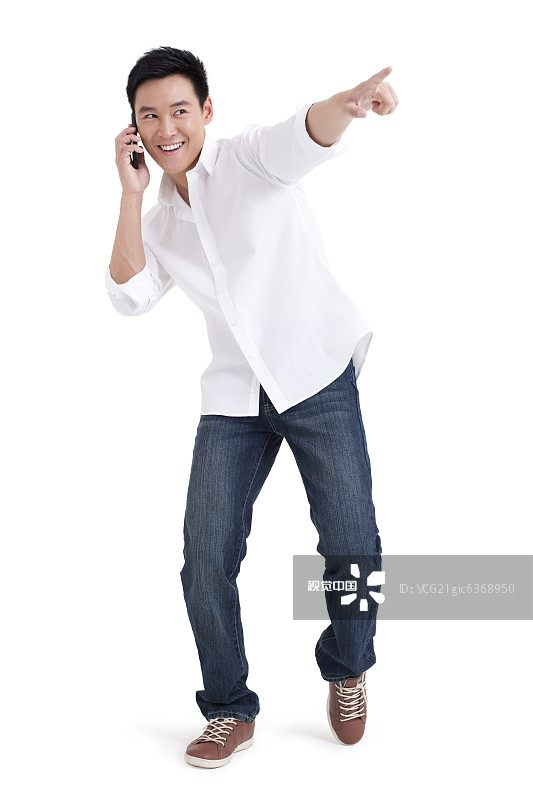calling: (96, 108, 164, 203)
no-phone: (313, 55, 423, 142)
